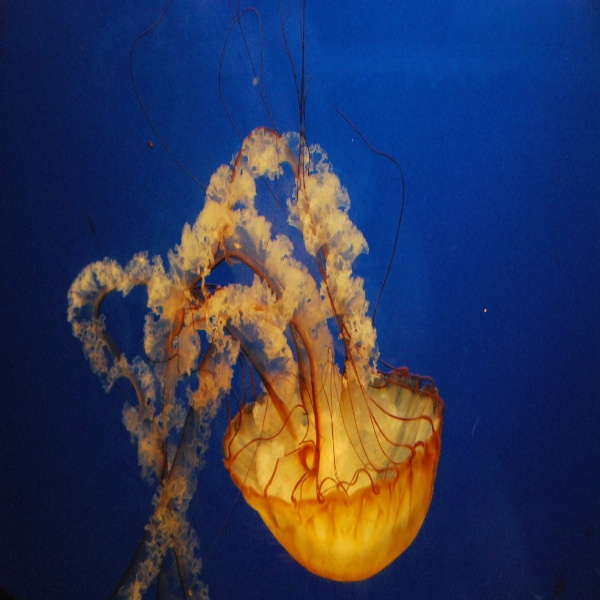Jellyfish: (67, 0, 444, 600)
